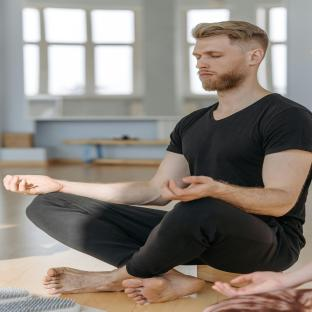Human: (3, 21, 312, 304)
